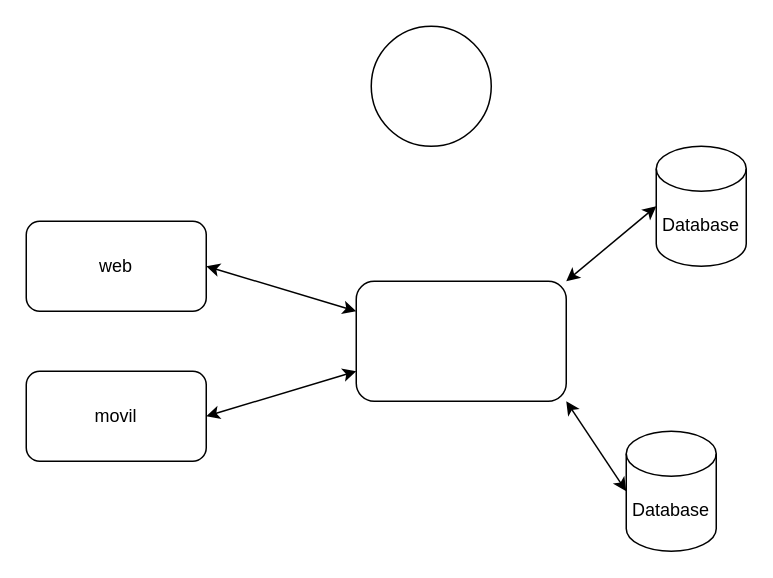
Some shapes in this 773 by 578 pixel diagram are drawn without their labels. Here are the shapes that lost their labels. From the top down, the centre of each, then its label:
At [430,85]: "predicciones".
At [460,340]: "Backen Funcion manejar usuarios y conexiones con otras apps".
